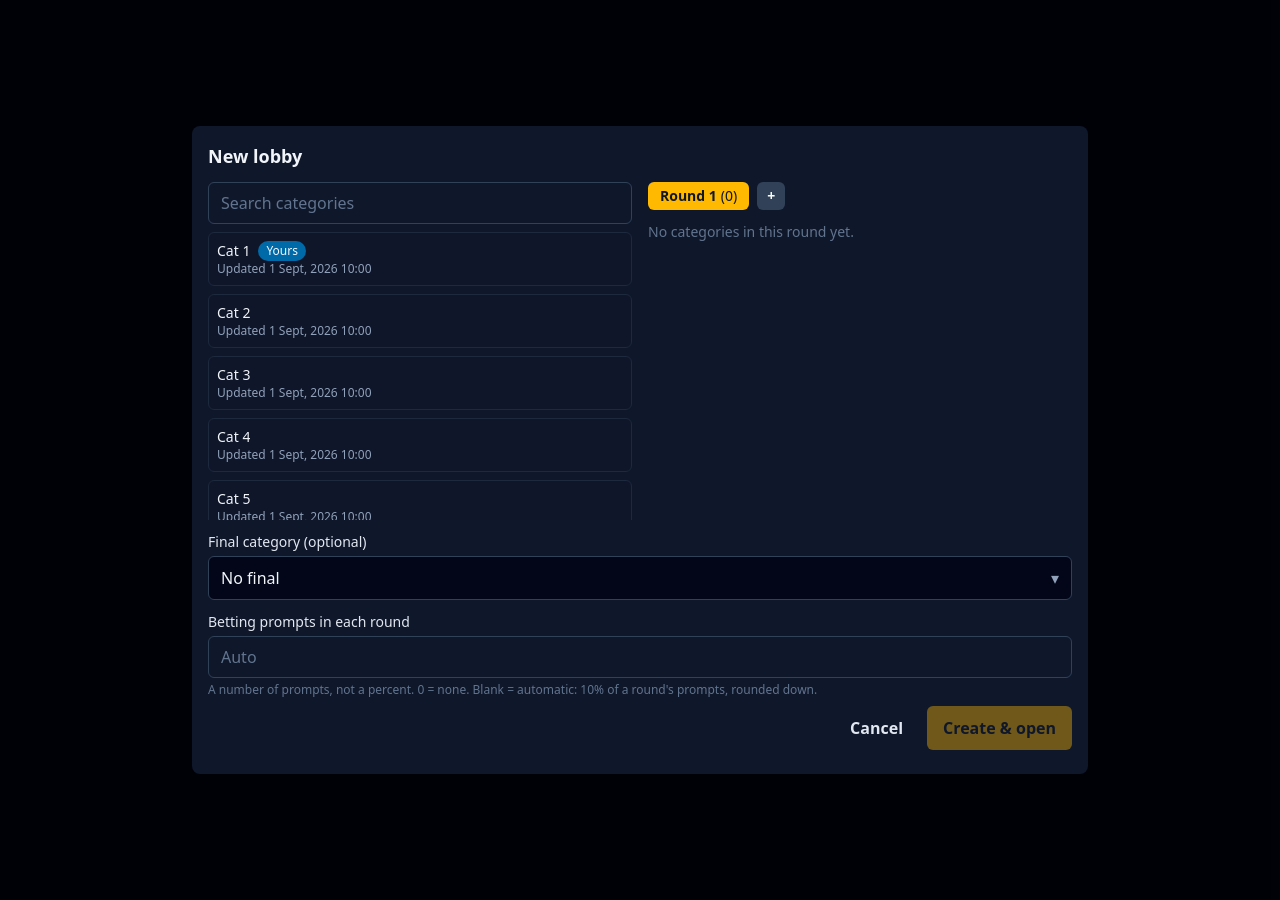
Test: CreateLobbyModal rounds editor › starts with one round and keeps create disabled until every round has a category
Expected: the button "Round 1(0)" is shown, [648, 182, 749, 210]
Expected: the button "Create & open" is disabled, [927, 706, 1072, 750]
Step 1. Click the button with aria-label "Add Cat 1 to round 1" → x=234, y=250, box [208, 232, 632, 286]
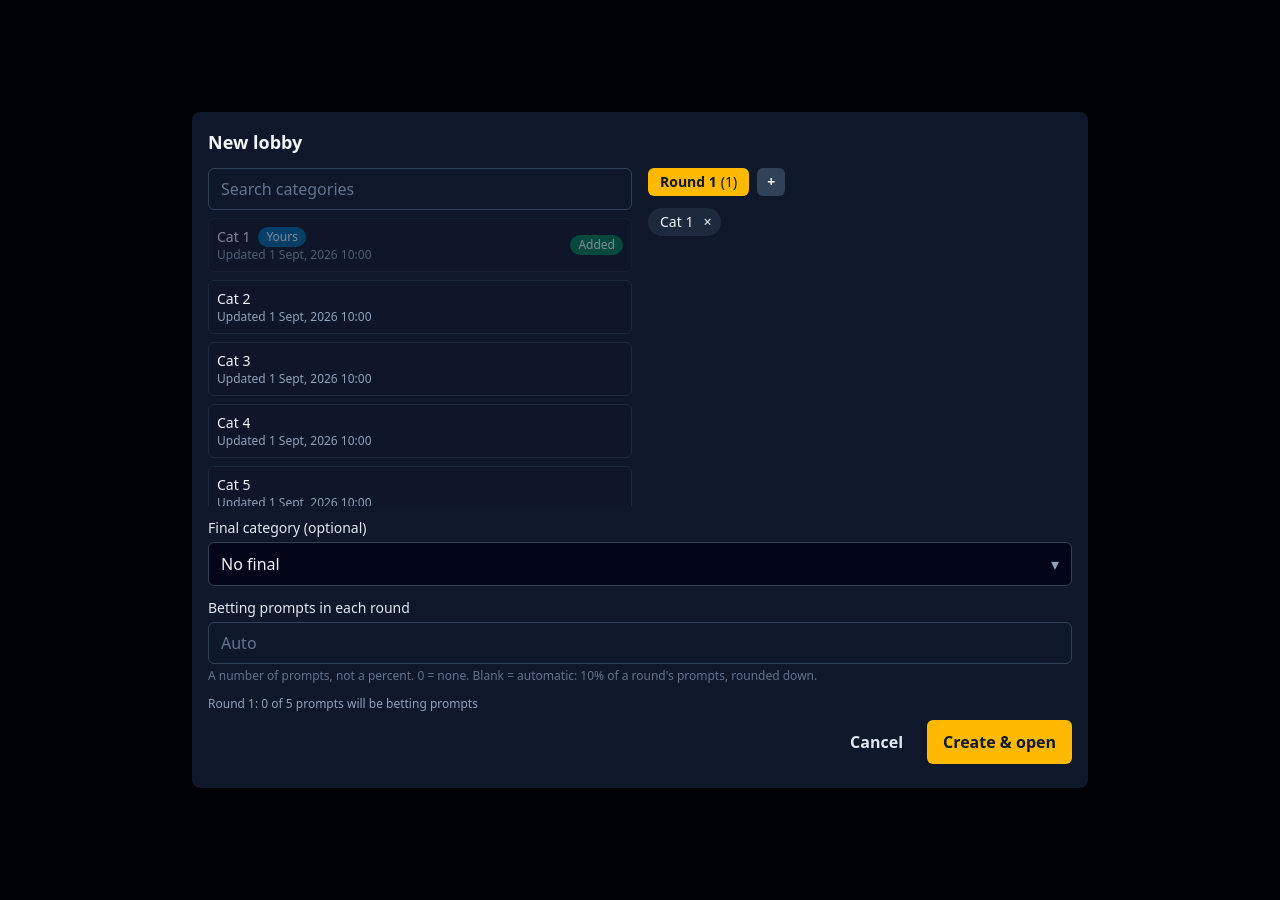
Result: the button "Create & open" is enabled at [927, 720, 1072, 764]
Step 2. Click the button named "Add round" → x=771, y=182, box [757, 168, 785, 196]
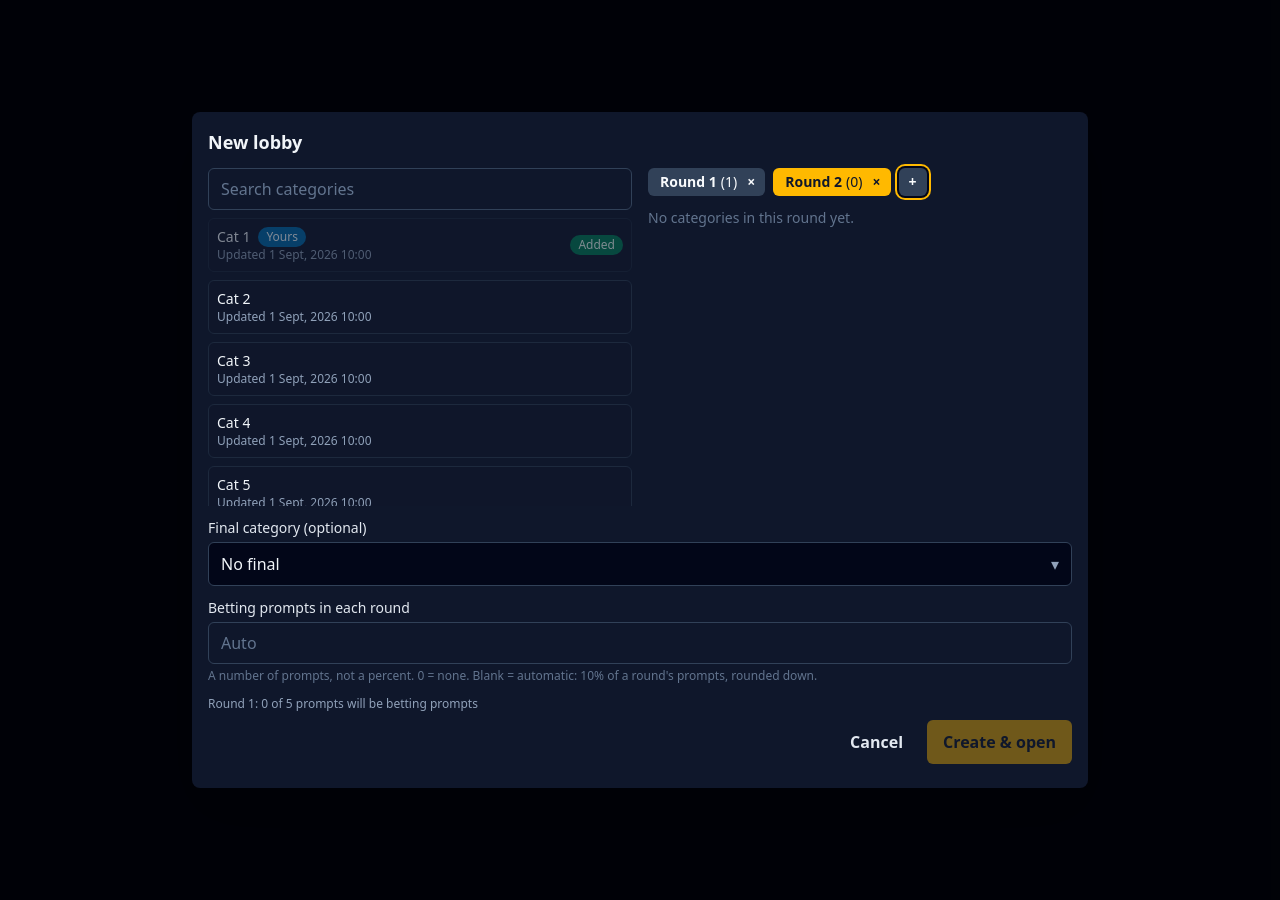
Result: the button "Round 2(0)" is shown at [773, 168, 867, 196]
Result: the button "Create & open" is disabled at [927, 720, 1072, 764]
